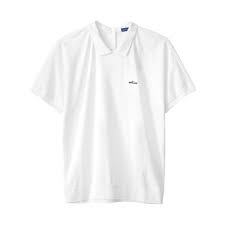C_polo shirt: (36, 22, 202, 203)
